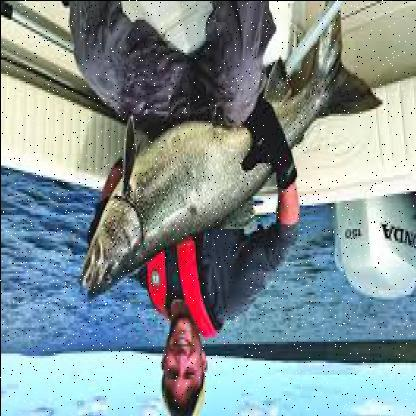fish: (81, 8, 386, 305)
